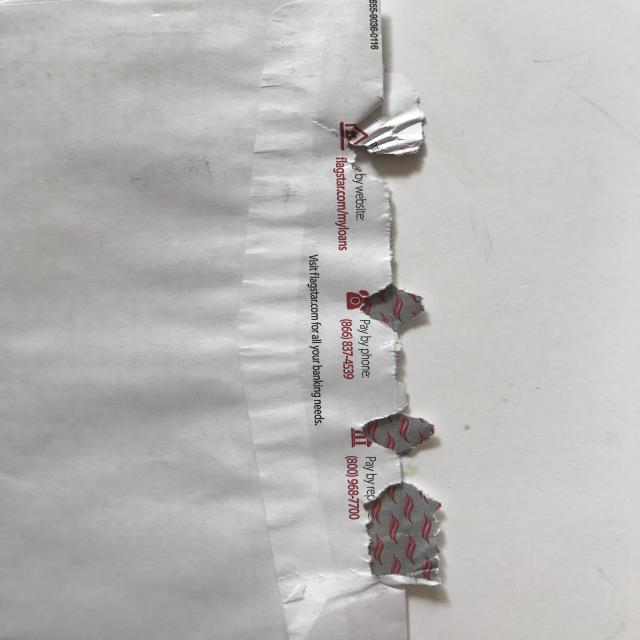paper: (1, 1, 443, 640)
